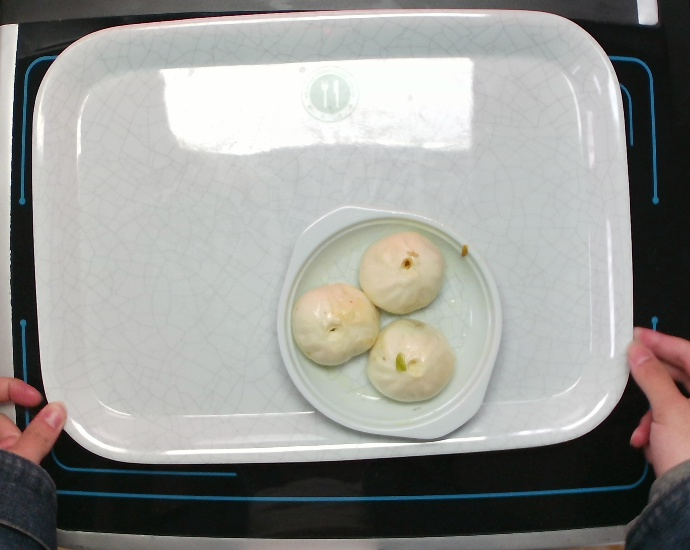JYsf-Shuang_Er_Pan: (274, 203, 505, 443)
